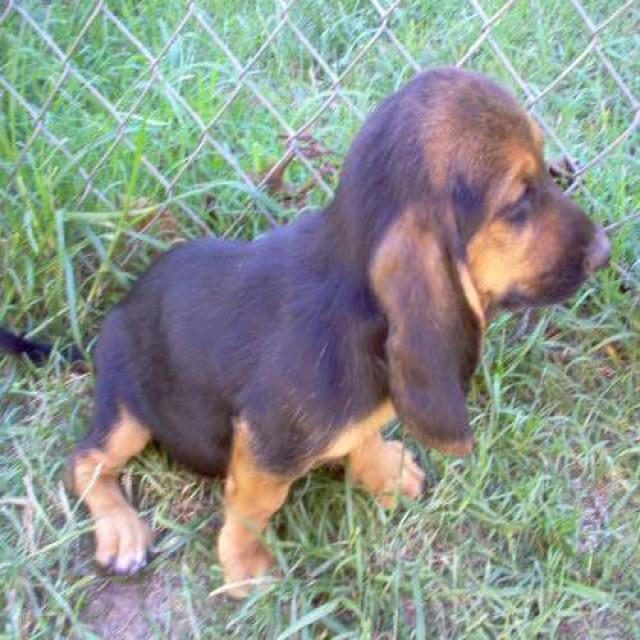dog: (0, 62, 612, 604)
